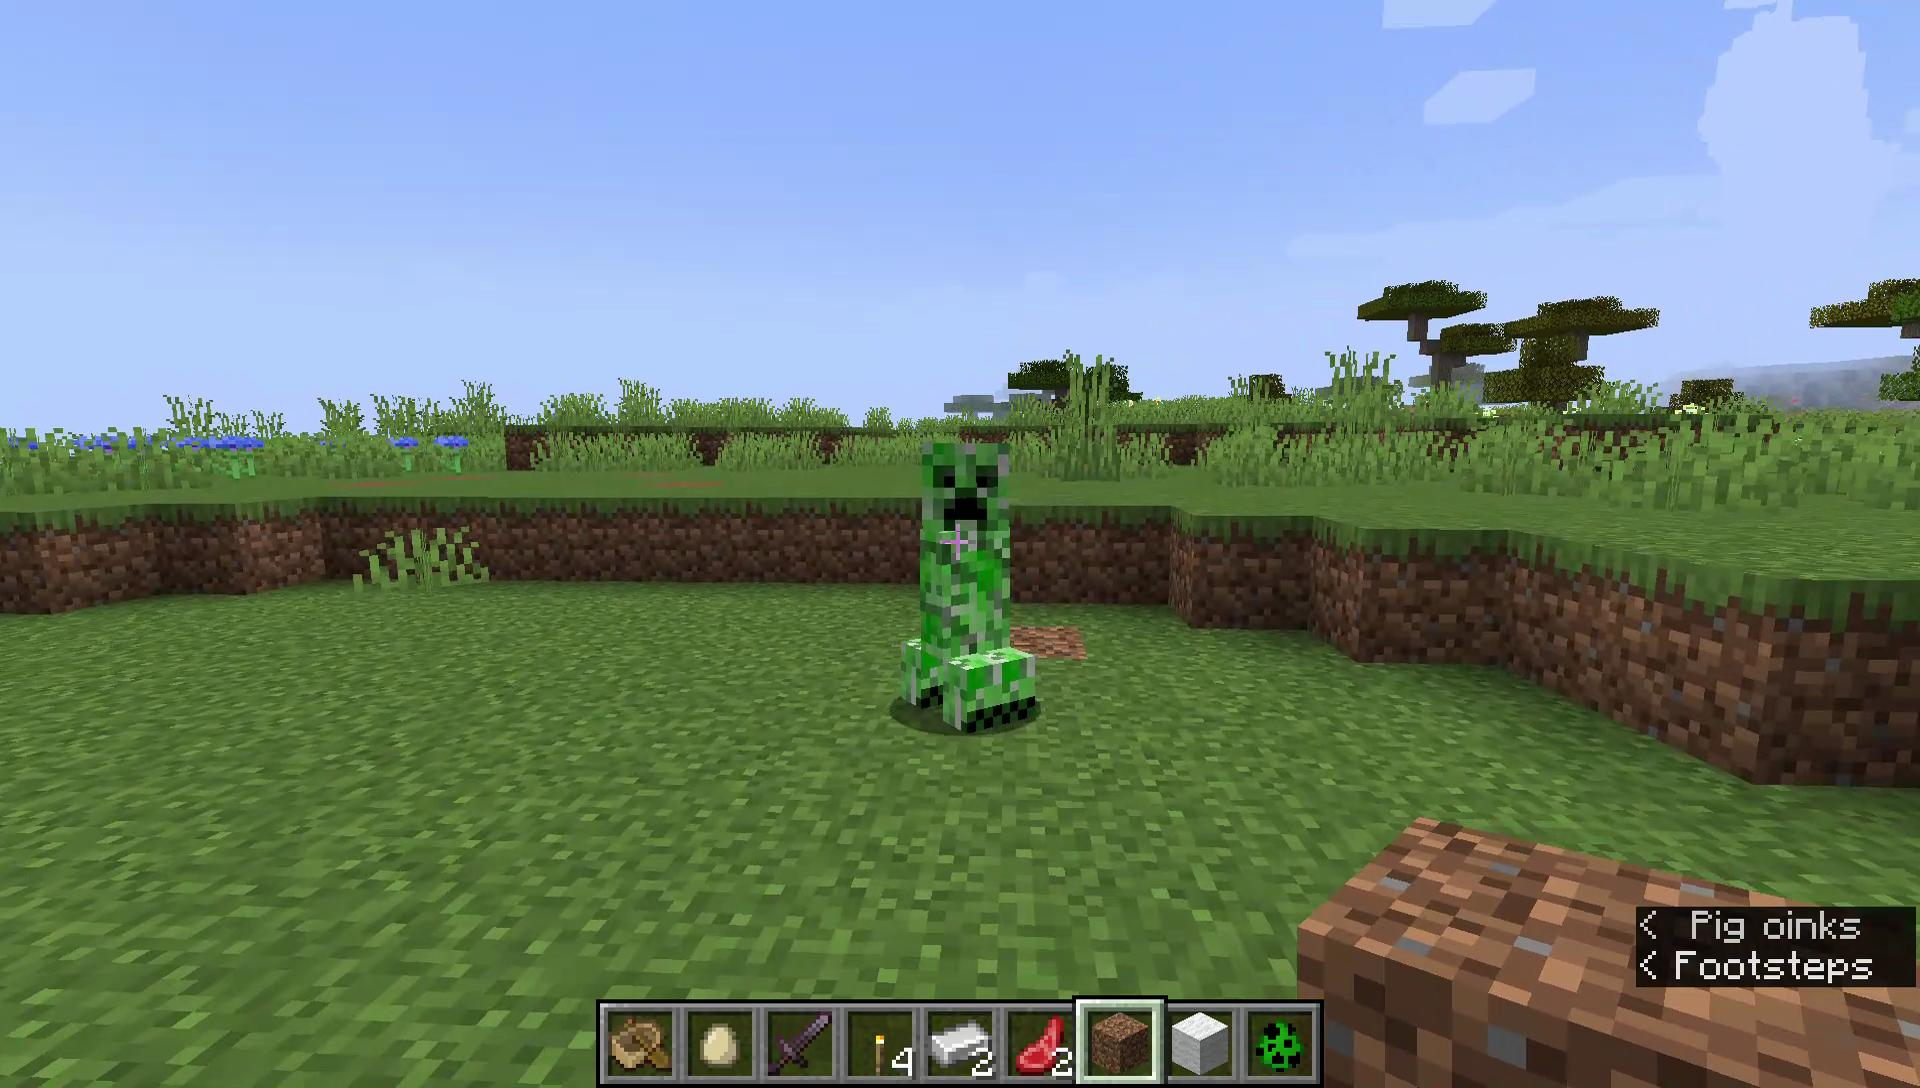creeper: (893, 434, 1043, 744)
